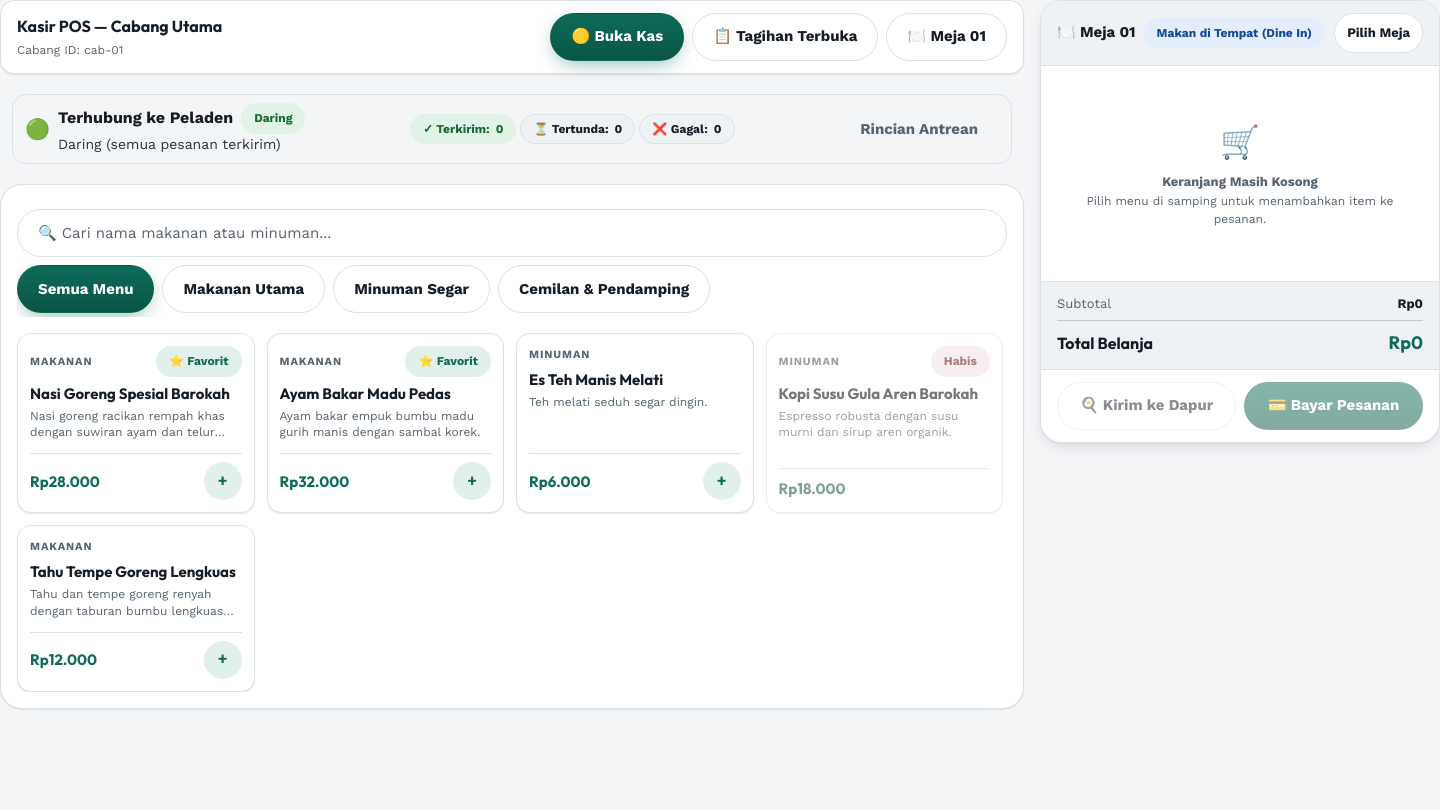
it: LayarKasir — void item butuh alasan (T5-06) › item TETAP di keranjang bila peladen menolak (tidak lenyap diam-diam)
Step 1. Click the text "Tahu Tempe Goreng Lengkuas" → x=136, y=573, box [30,563,242,582]
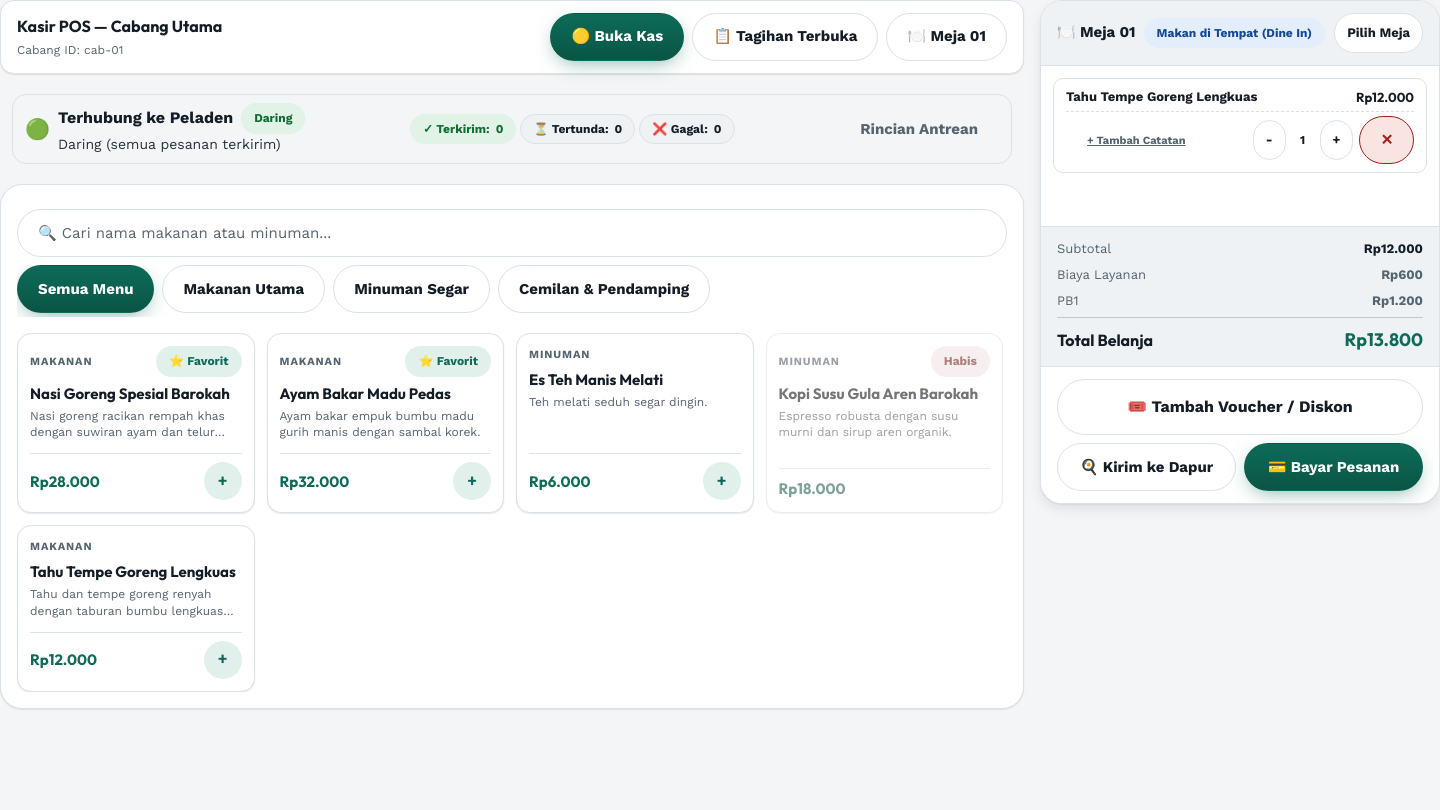
Step 2. Click the button named "Hapus item" → x=1387, y=140, box [1359,116,1414,164]
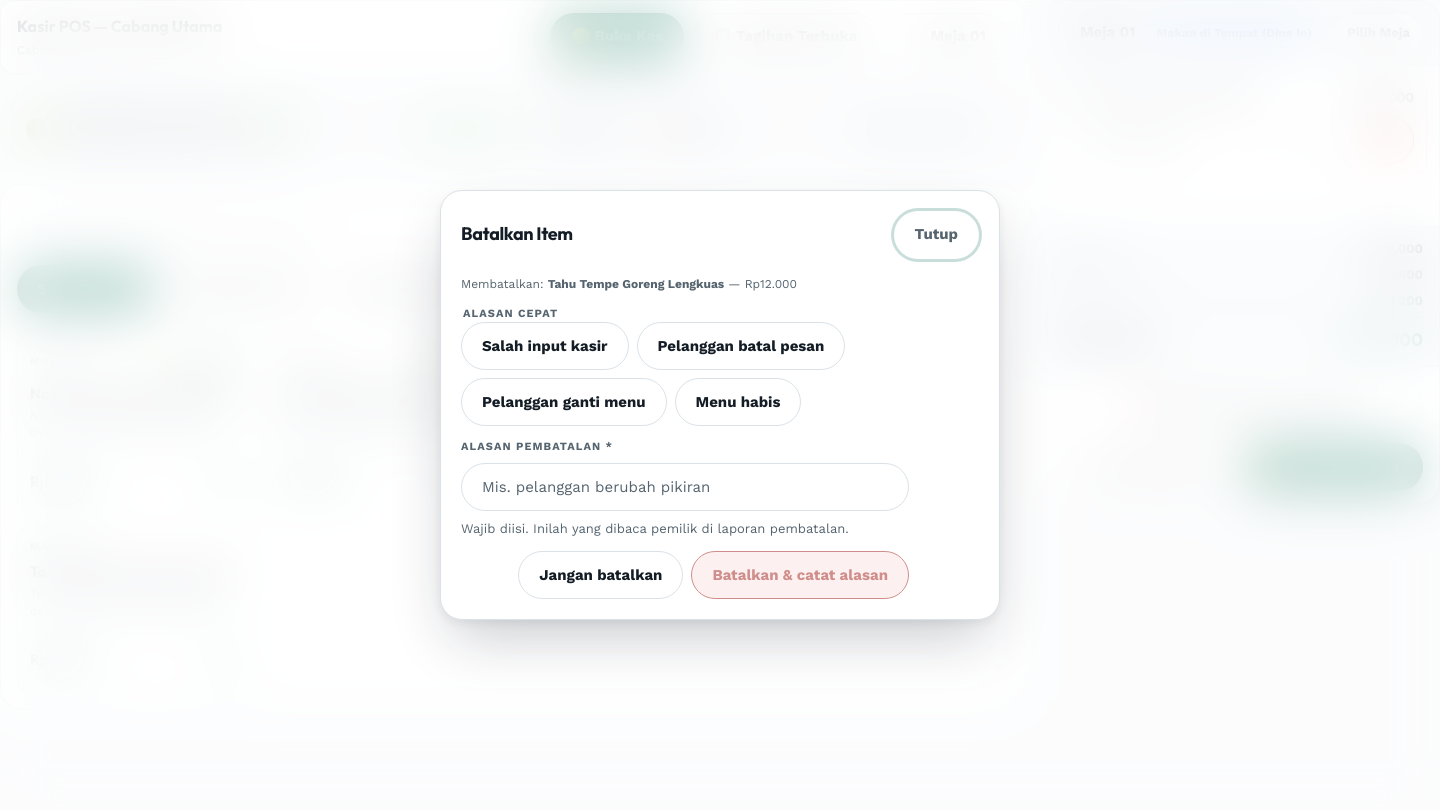
Step 3. Click the button "Menu habis" → x=738, y=402, box [675,378,802,426]
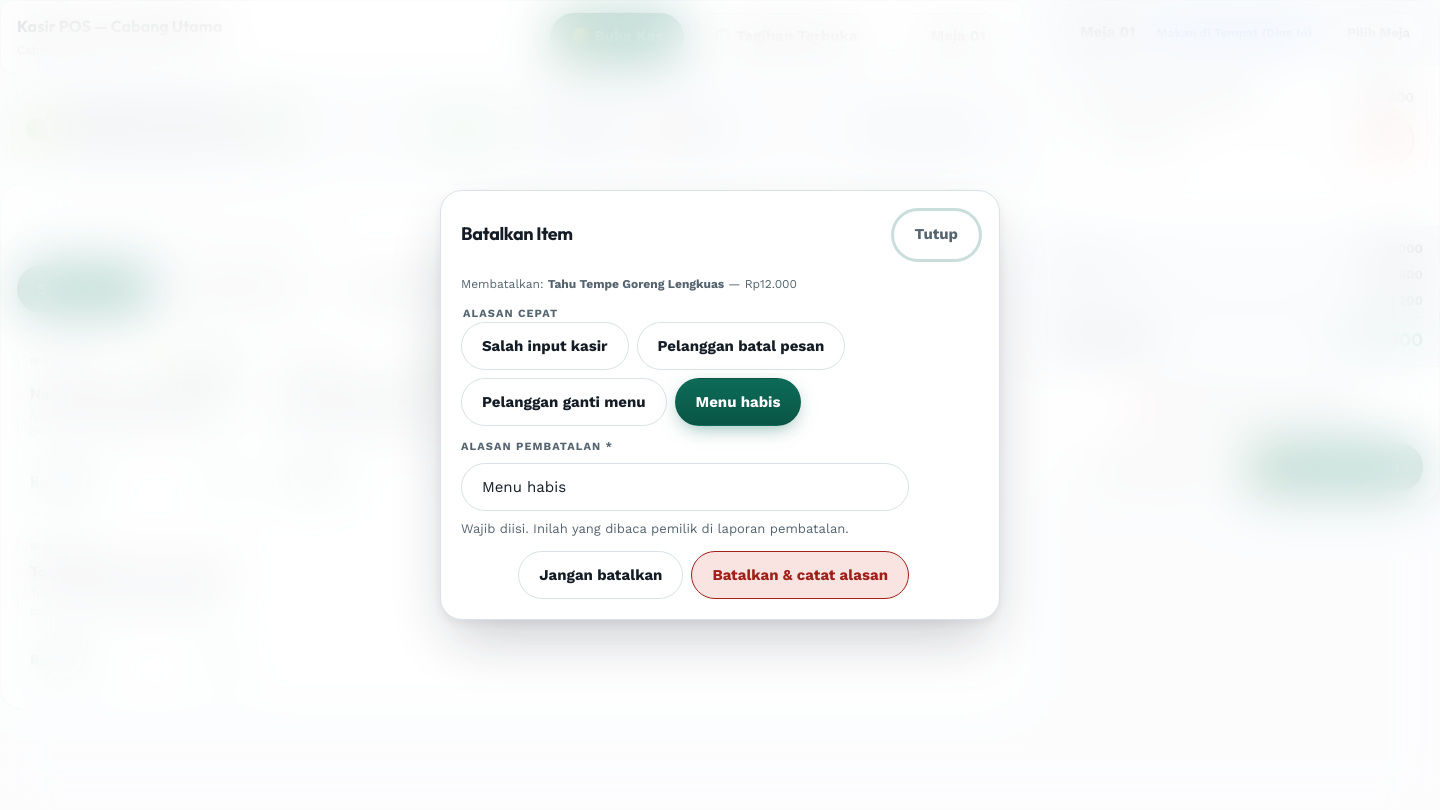
Step 4. Click the button "Batalkan & catat alasan" → x=800, y=575, box [691,551,909,599]
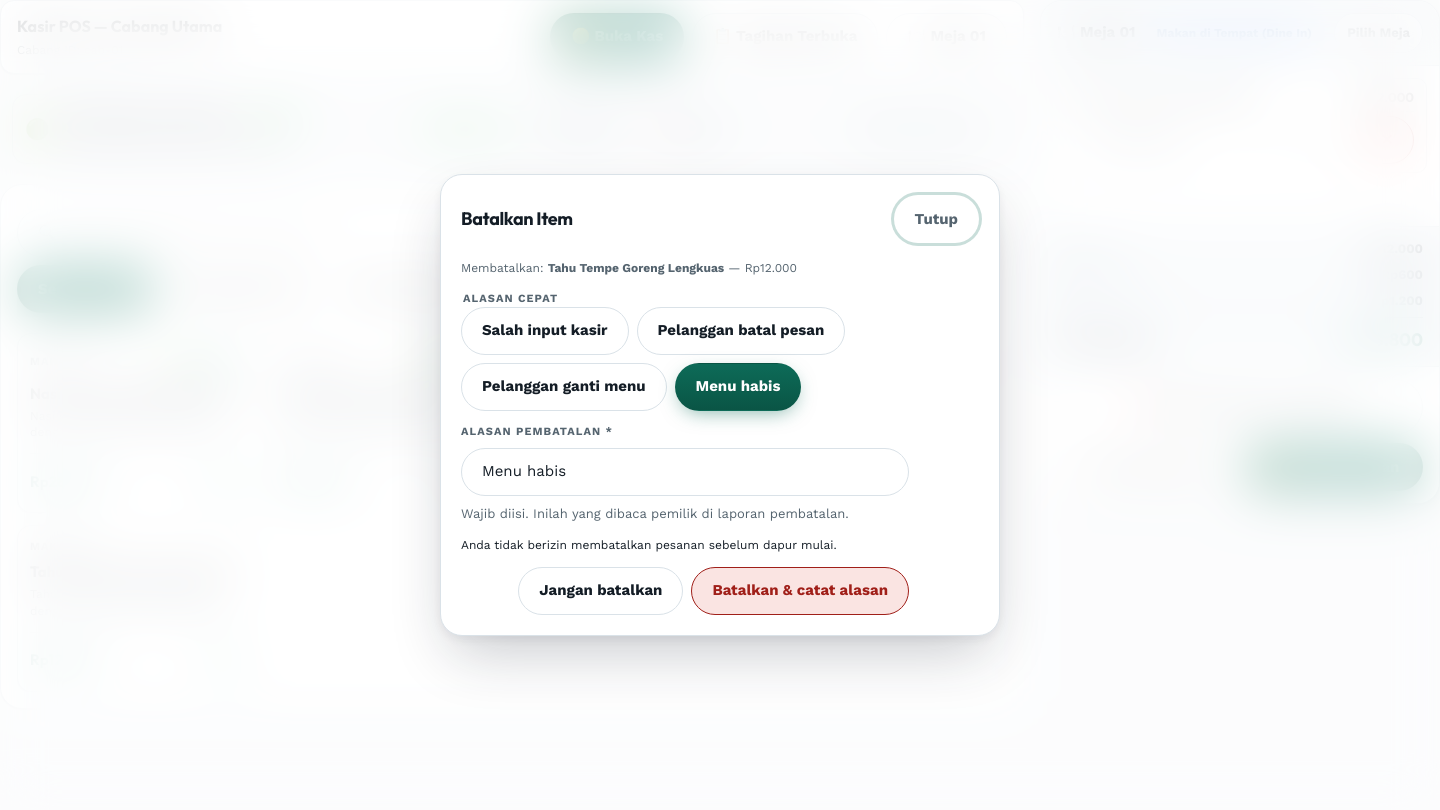
Expected: the element with test id "void-item" is shown, [461,259,909,615]
Expected: the message with test id "void-pesan" shows "tidak berizin", [461,538,837,552]
